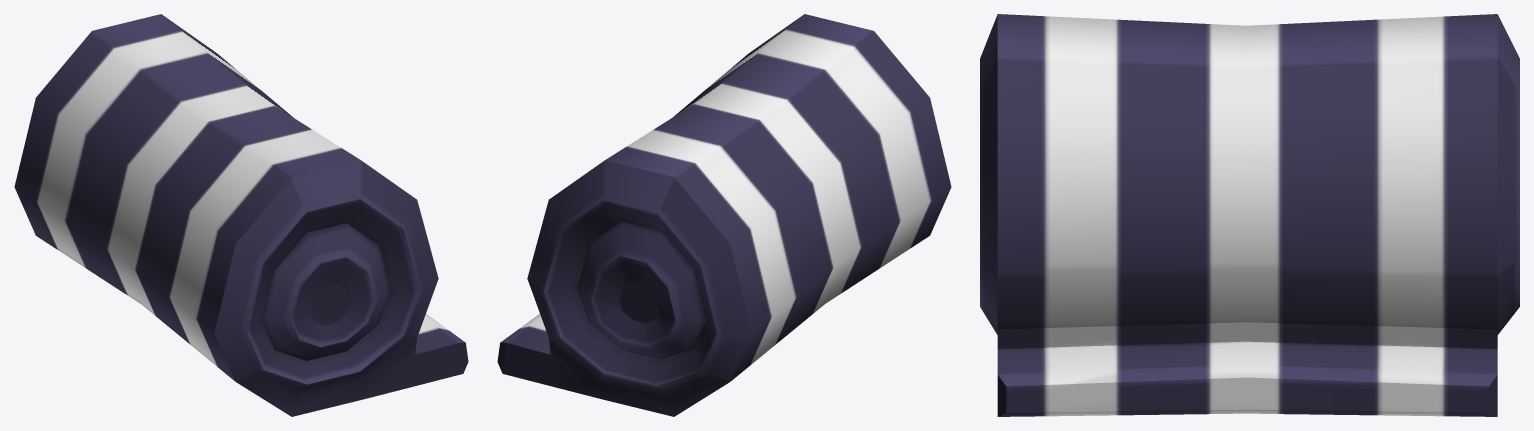
Rendered from housepack_towel_roll_2.FBX.
3 renders of one model, left to right at view 1: azimuth 30°, elevation 25°; view 2: azimuth 150°, elevation 25°; view 3: azimuth 270°, elevation 25°, orthographic. The views are drawn at different scales.
Visible parts, largest first — view 1: housepack_towel_roll_2; view 2: housepack_towel_roll_2; view 3: housepack_towel_roll_2.
Part boxes in pixels (<box>): housepack_towel_roll_2: <box>14,14,468,416</box>; housepack_towel_roll_2: <box>497,14,951,416</box>; housepack_towel_roll_2: <box>980,14,1519,416</box>.
Bounding box in the file's own units: 19.04 × 16.93 × 27.62.
